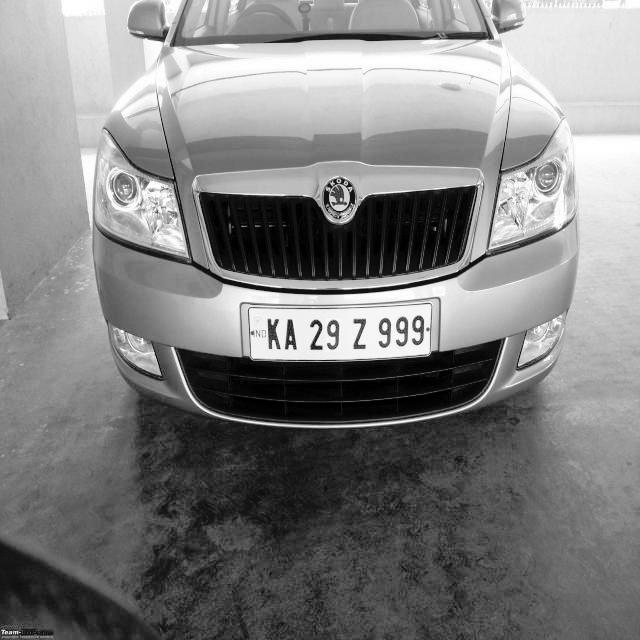Car: (79, 6, 583, 436)
